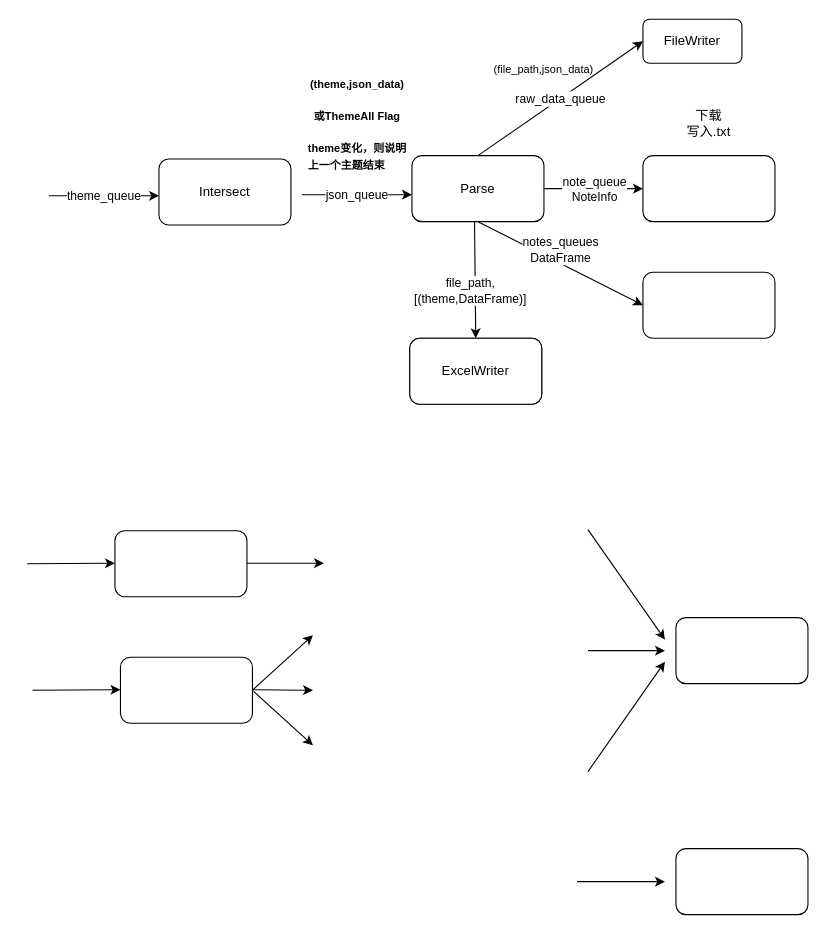
Image size: 827x934. Some labels were removed from this diagram. The centre of each missing label's shape, as x and y in pixels:
"HandleNote" goes at point 708,188.
"HandleNotes" goes at point 708,304.
